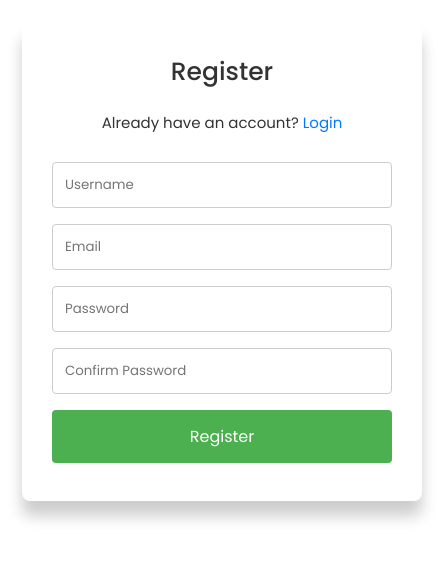
it: Complete User Workflow › Registration Functionality › Should show error message when passwords do not match
This screenshot has width=445, height=561.
Type "thisisnewuser23" into the field with placeholder "Username" at x=222, y=185, box [52,162,392,208]
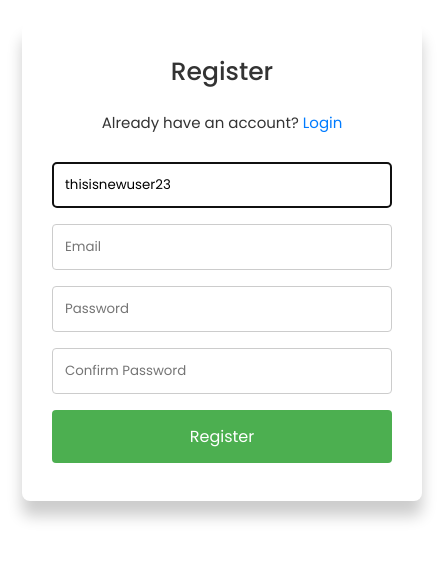
Type "thisisnewuser23@gmail.com" into the field with placeholder "Email" at x=222, y=247, box [52,224,392,270]
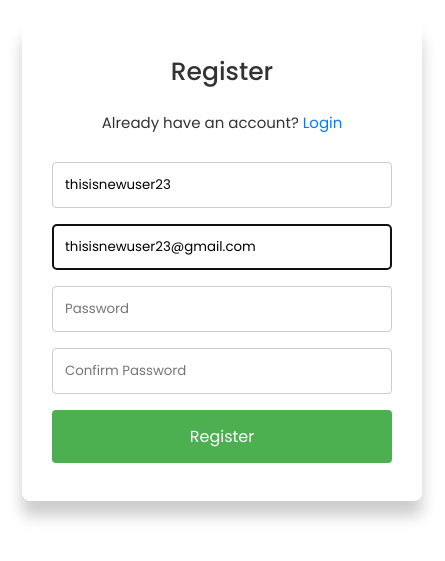
Type "password123" into the password field with placeholder "Password" at x=222, y=309, box [52,286,392,332]
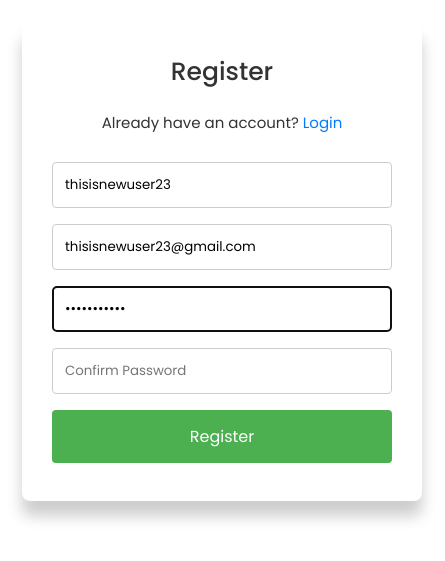
Type "wrongpassword" into the password field with placeholder "Confirm Password" at x=222, y=371, box [52,348,392,394]
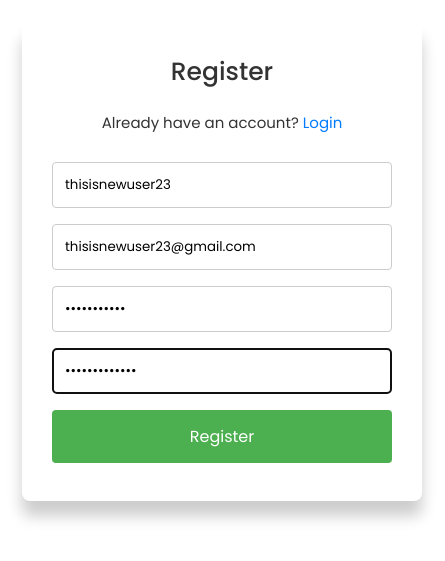
Click the submit button at x=222, y=437, box [52,410,392,463]
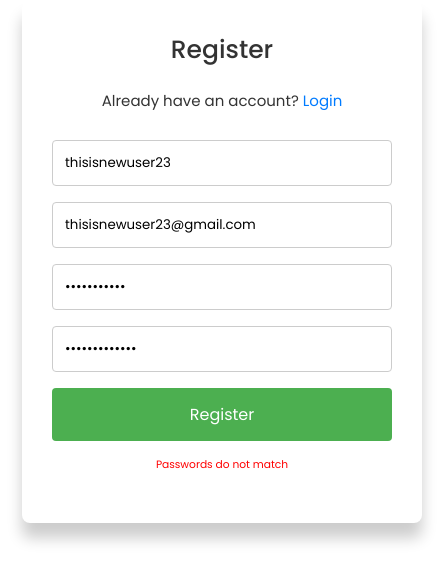
Now the text "Passwords do not match" is shown, box [156,457,288,472]
